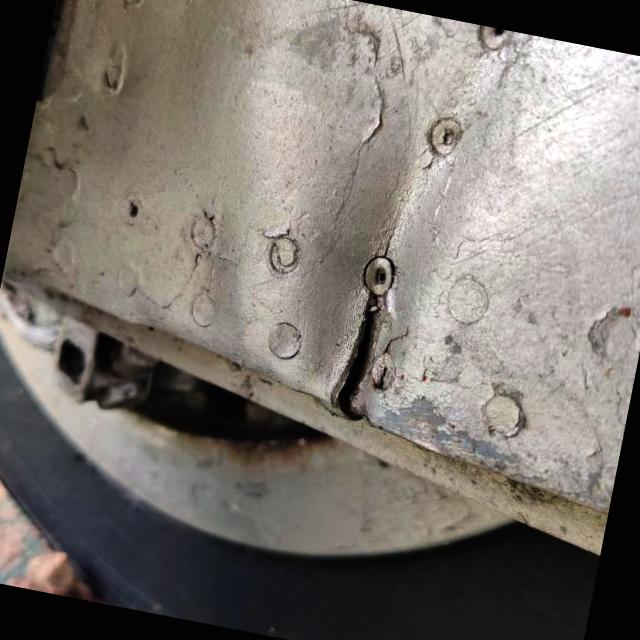crack: (285, 261, 423, 441)
